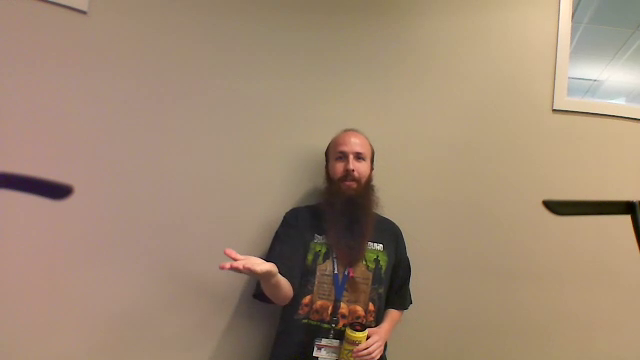land: (214, 244, 282, 280)
